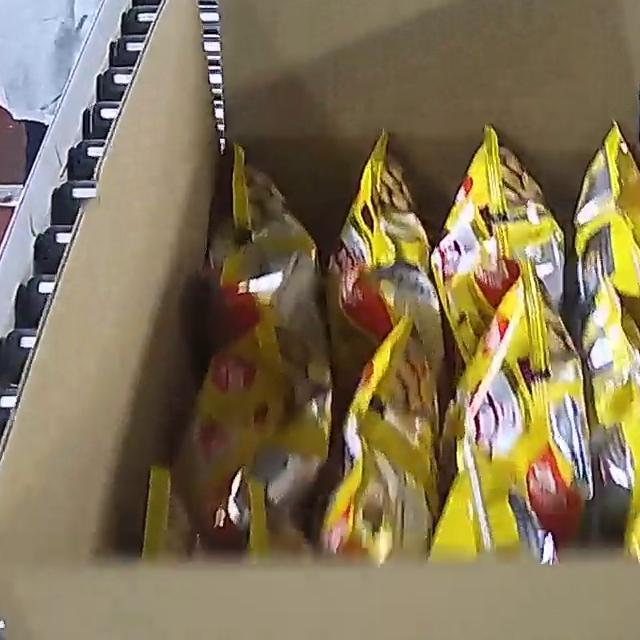salted: (159, 118, 640, 566)
